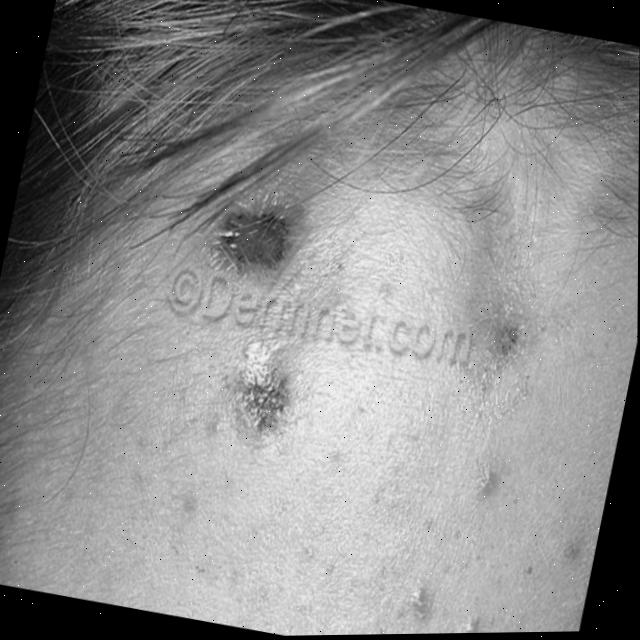Eczema: (493, 293, 552, 386), (217, 209, 298, 269), (238, 350, 301, 424)
